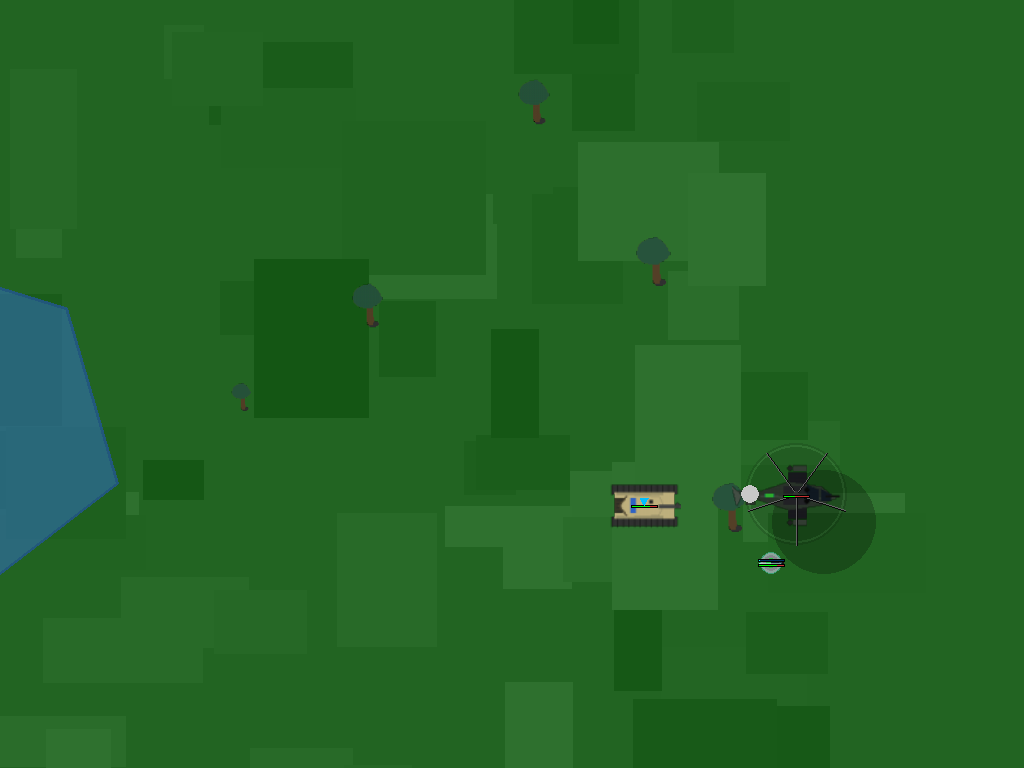Lake: (0, 220, 117, 768)
M1A2_usa: (612, 472, 676, 536)
Shotgunner: (754, 546, 788, 580)
WZ10: (758, 456, 804, 533)
